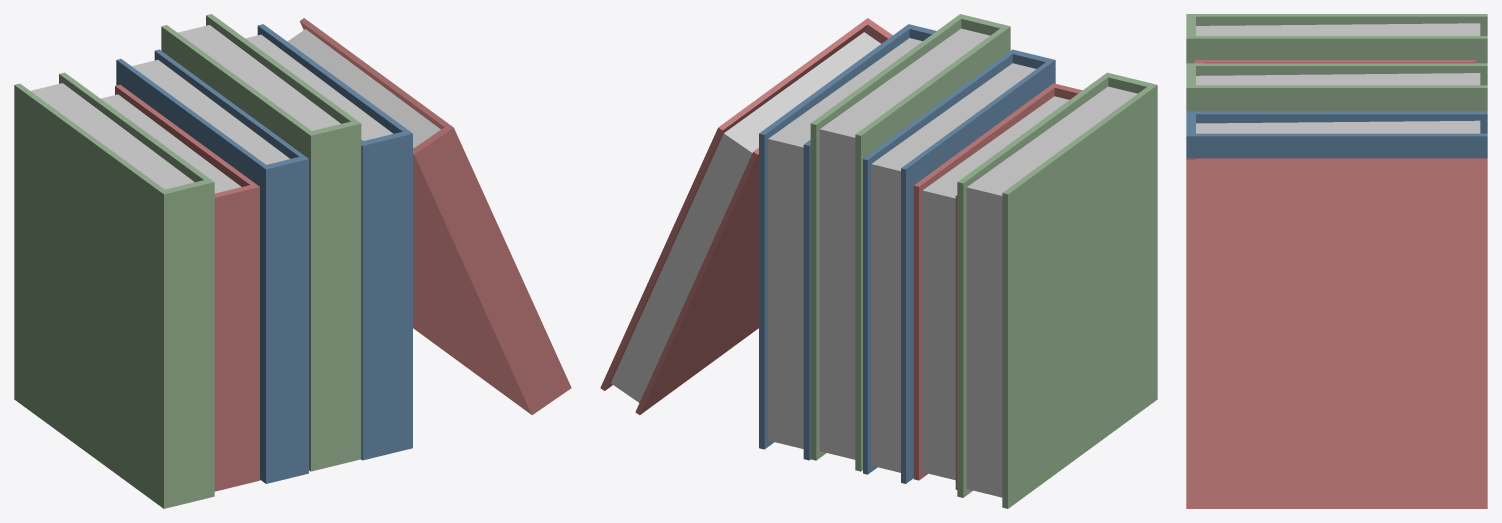
Rendered from books.glb.
The picture shows the model from 3 angles, left to right: view 1: azimuth 30°, elevation 25°; view 2: azimuth 150°, elevation 25°; view 3: azimuth 270°, elevation 25°; orthographic projection.
Parts seen in each view (by area): view 1: Books; view 2: Books; view 3: Books.
Part boxes in pixels (<box>): Books: <box>14,14,571,508</box>; Books: <box>600,14,1157,508</box>; Books: <box>1186,14,1487,508</box>.
Bounding box in the file's own units: 0.1972 × 0.1558 × 0.1253.
